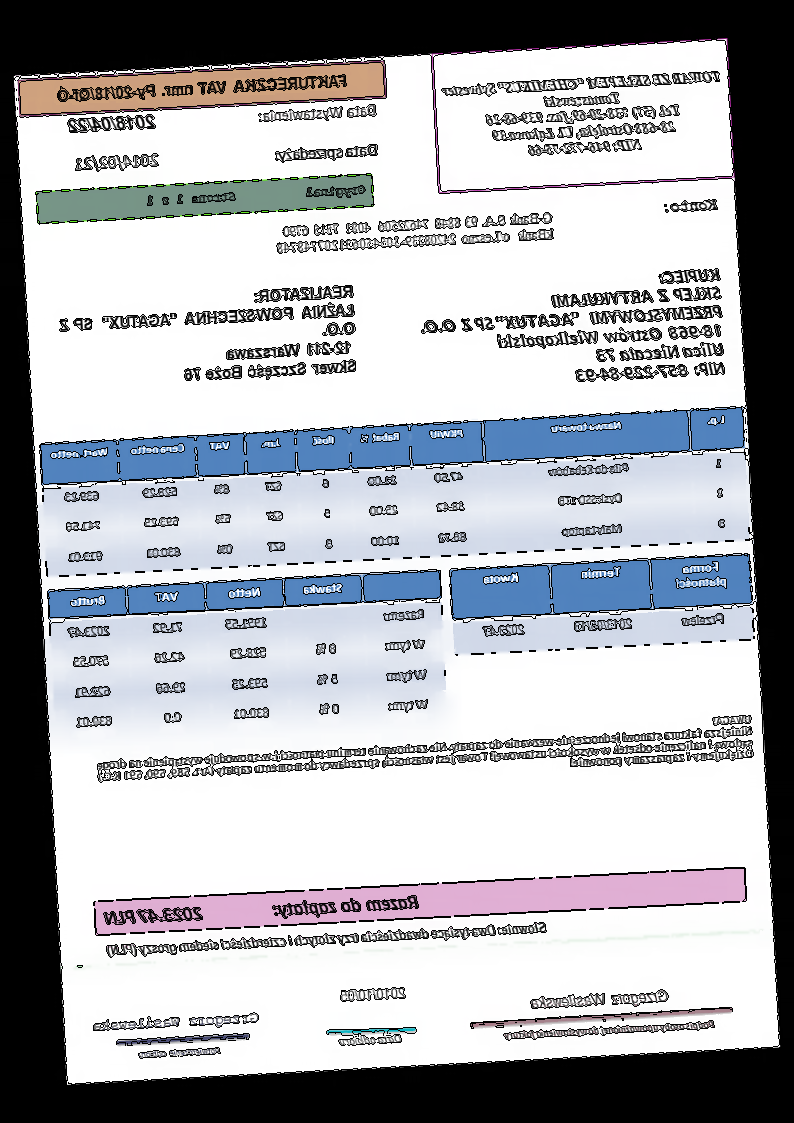Table: (38, 406, 752, 578), (46, 568, 449, 741), (450, 553, 755, 656)
TextBox: (94, 710, 756, 797), (415, 265, 730, 394), (55, 281, 360, 392), (440, 65, 727, 165), (100, 916, 550, 961), (274, 207, 559, 259), (100, 887, 425, 932), (56, 70, 352, 104), (145, 180, 367, 210), (501, 1015, 719, 1043), (91, 1008, 264, 1035), (528, 983, 672, 1013), (257, 101, 378, 126), (272, 139, 380, 166), (65, 109, 161, 138), (71, 149, 162, 176), (135, 1042, 224, 1063), (338, 982, 410, 1006), (336, 1029, 404, 1047), (663, 194, 721, 215)
